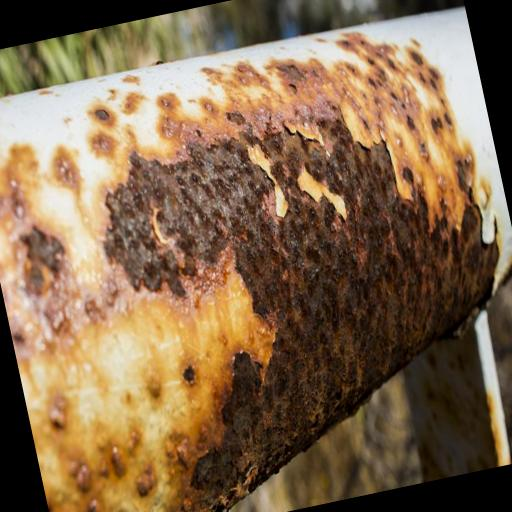corrosion: (10, 278, 289, 512), (0, 133, 113, 354), (261, 27, 449, 151), (190, 51, 281, 139), (16, 222, 71, 294)
